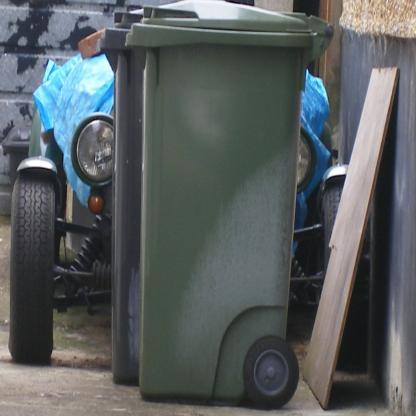Car: (9, 23, 326, 369)
